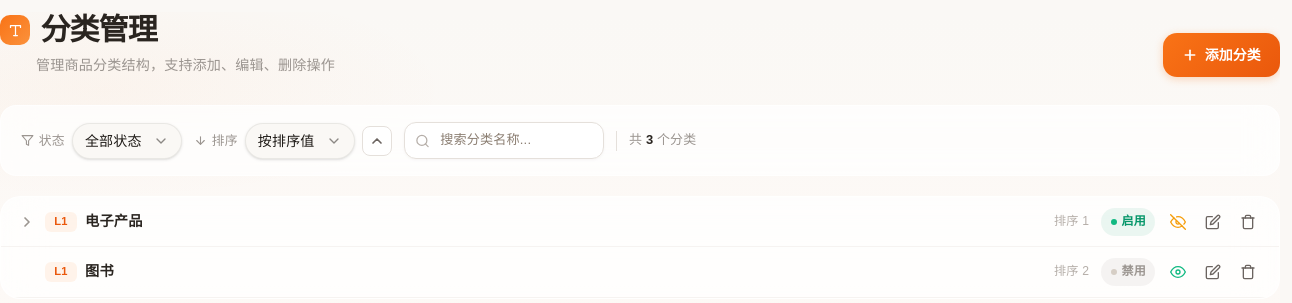
Test: CategoryManagePage › toggles sort direction
This screenshot has width=1292, height=303.
Click the button titled "升序" at (377, 141), box [362,126,392,156]
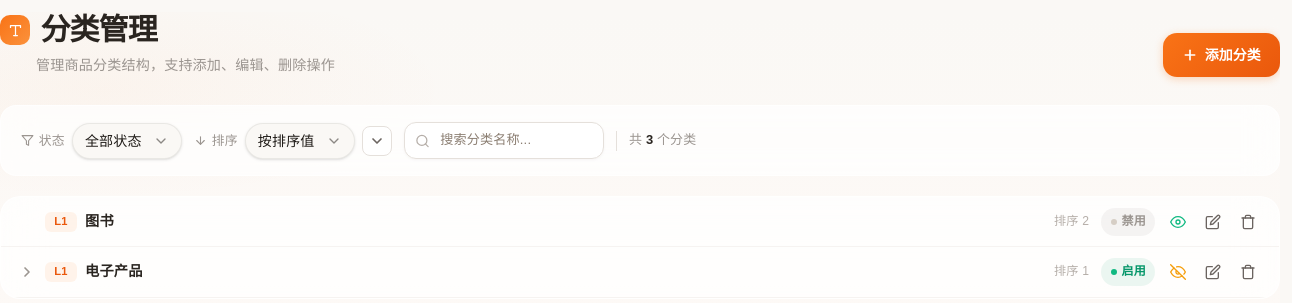
Result: the button titled "降序" is shown at [362,126,392,156]
